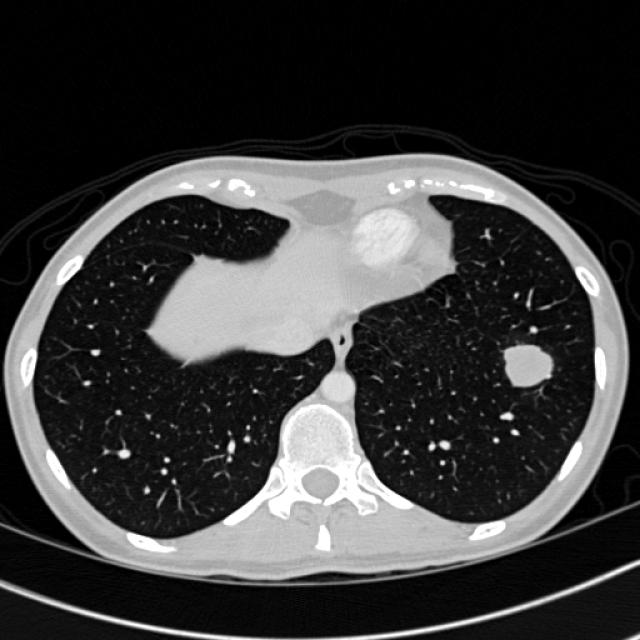nodule: (475, 312, 575, 412)
